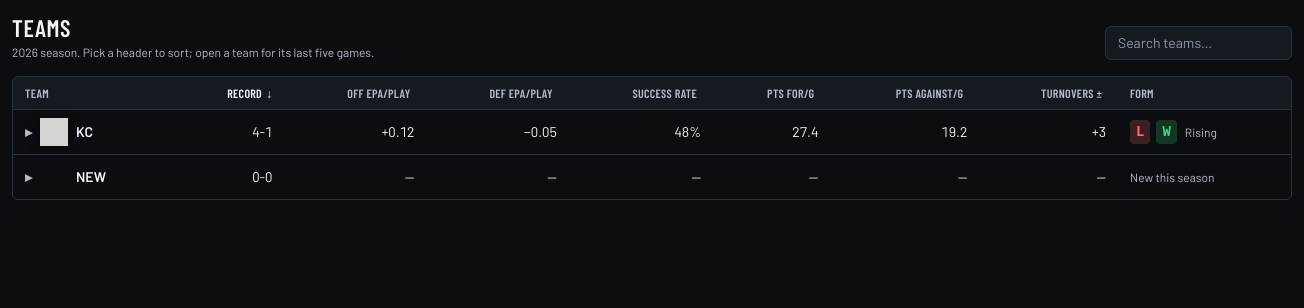
Test case: TeamHubPage › expands a team into its recent games, newest first
Click the button with aria-label "Show KC details". click: point(59, 132)
box: [25,118,93,146]
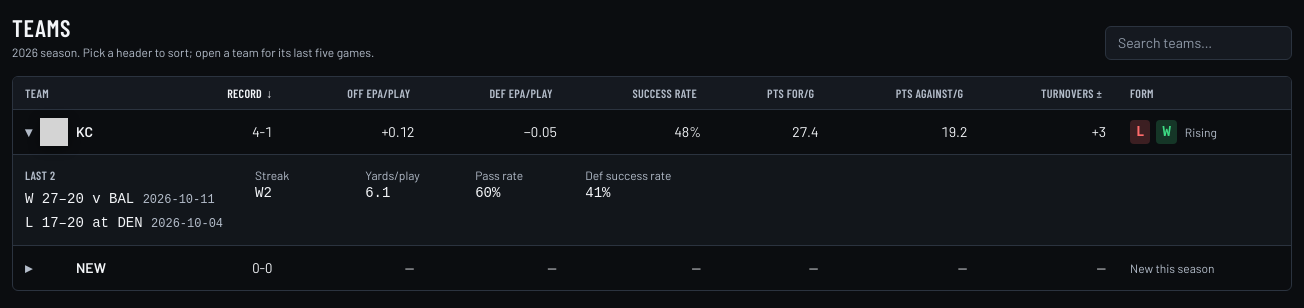
Result: the list item "W 27–20 v BAL 2026-10-11" is shown at [25,189,223,209]
Result: the list item "L 17–20 at DEN 2026-10-04" is shown at [25,213,223,233]
